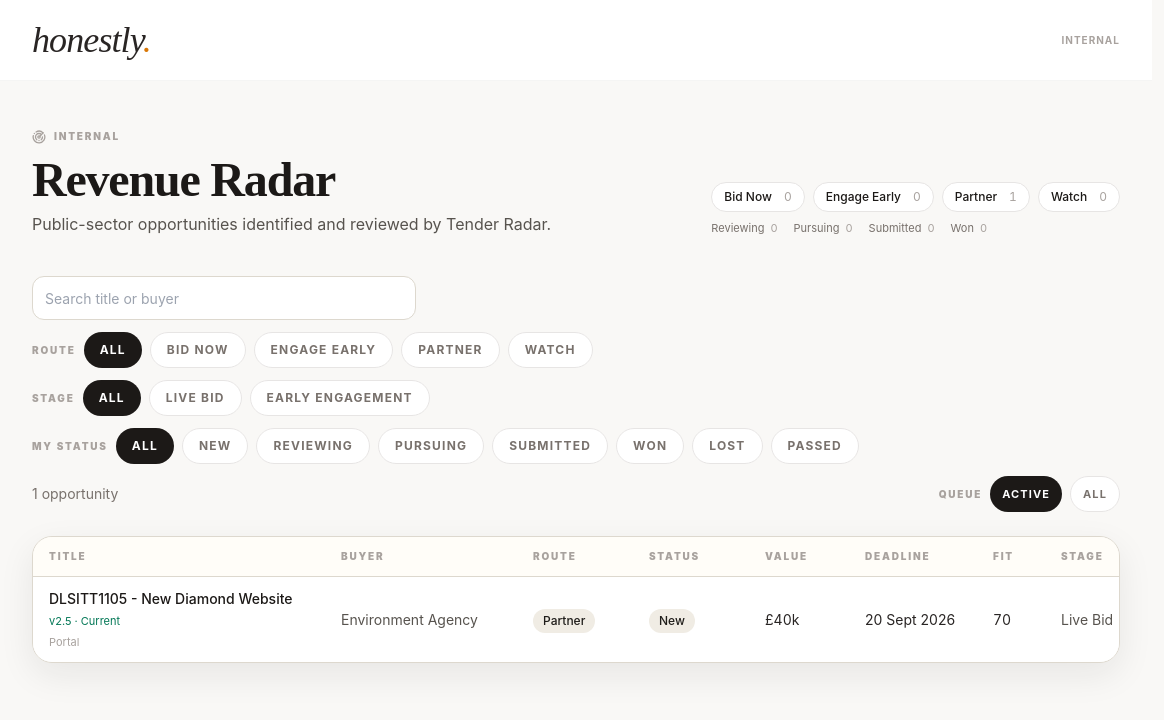
Test: RevenueRadarScreen › shows a portal button for external_portal access
Expected: the text "Portal" is shown, x1=49 y1=634 x2=79 y2=648
Click the button "DLSITT1105" at (592, 620), box x1=33 y1=577 x2=1152 y2=662
(page scrolled)
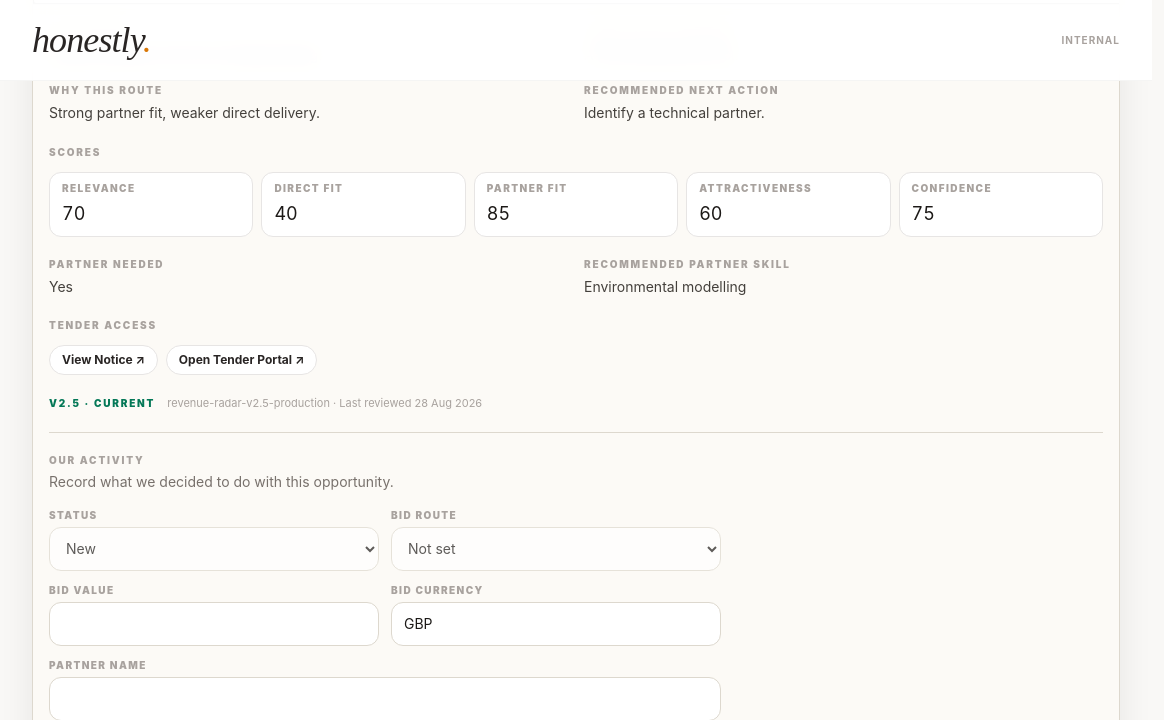
Result: the link "View Notice ↗" is shown at x1=49 y1=345 x2=158 y2=375
